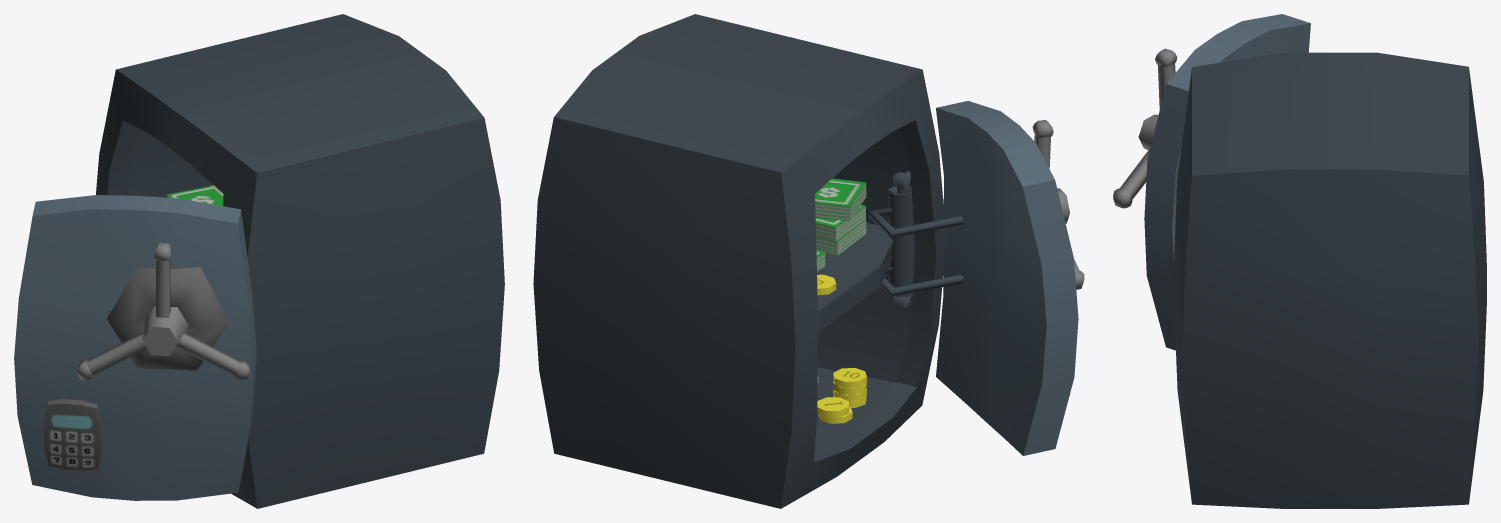
File: Safe.fbx
3 renders of one model, left to right at view 1: azimuth 30°, elevation 25°; view 2: azimuth 150°, elevation 25°; view 3: azimuth 270°, elevation 25°, orthographic. The views are drawn at different scales.
Parts seen in each view (by area): view 1: corpus_low, door_low, vint_low, money_4_low; view 2: corpus_low, door_low, corpus_in_low, money_7_low, vint_low, money_6_low, money_5_low, coin_2_low; view 3: corpus_low, door_low, vint_low.
Part boxes in pixels (x1,y1,x2,y2): corpus_low: [96, 14, 504, 508]; door_low: [14, 195, 256, 500]; vint_low: [76, 243, 251, 380]; money_4_low: [166, 185, 223, 205]; corpus_low: [533, 14, 946, 508]; door_low: [868, 101, 1078, 455]; corpus_in_low: [817, 222, 893, 332]; money_7_low: [815, 178, 866, 221]; vint_low: [1032, 120, 1084, 289]; money_6_low: [815, 204, 865, 241]; money_5_low: [816, 219, 866, 256]; coin_2_low: [833, 367, 866, 388]; corpus_low: [1174, 52, 1486, 508]; door_low: [1144, 14, 1310, 350]; vint_low: [1113, 48, 1177, 208].
Bounding box in the file's own units: 372 × 270 × 270.
Materials: 1 (1 with a texture image).
